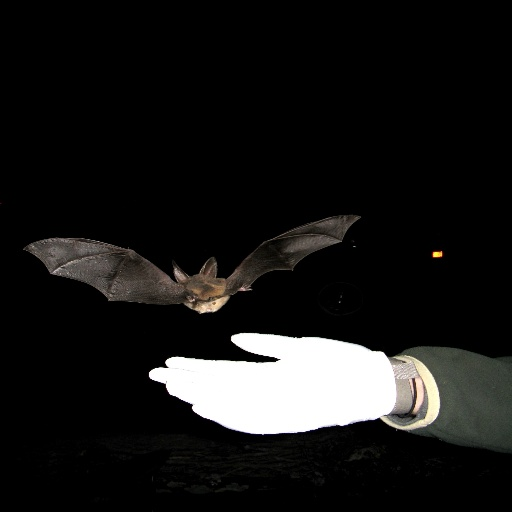hand: (145, 331, 400, 436)
